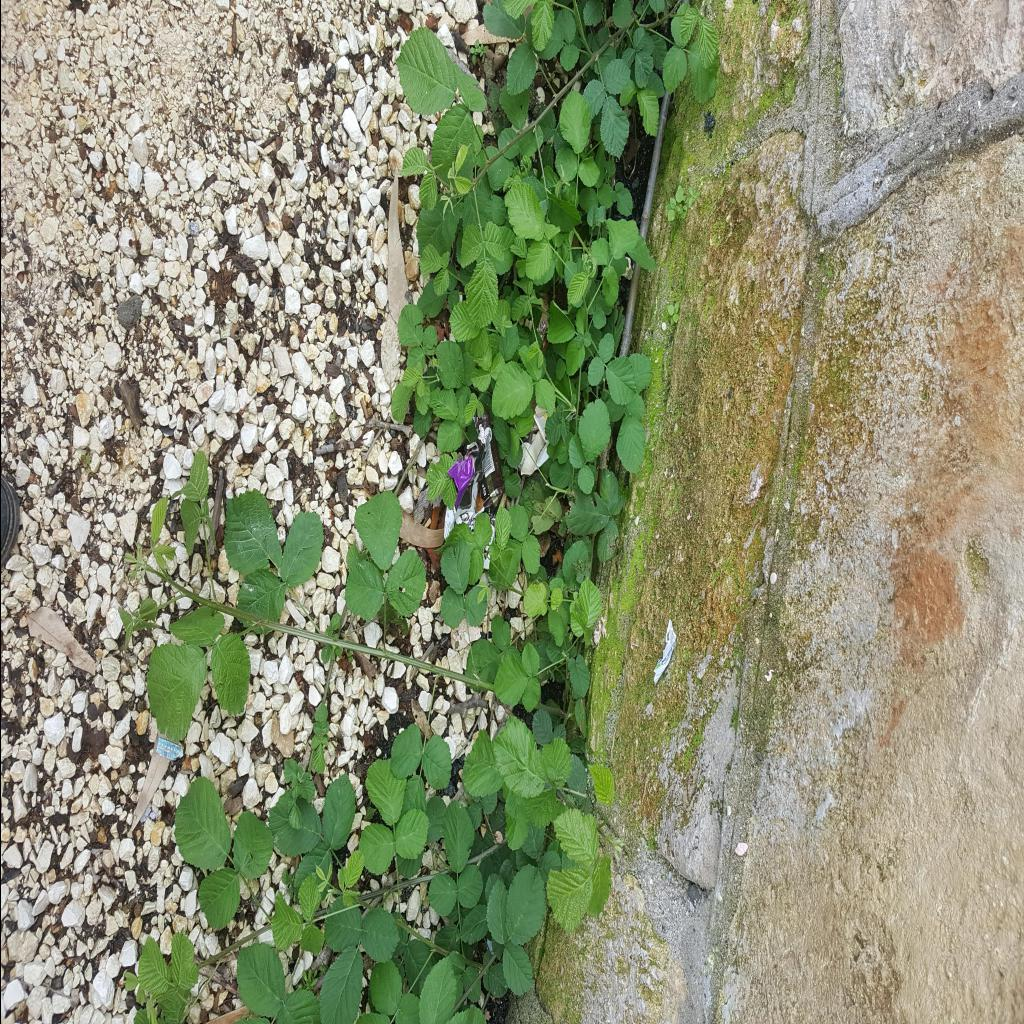Other plastic: (444, 410, 504, 570), (516, 410, 548, 478), (155, 736, 183, 760), (535, 320, 546, 348)
Unlabeled litter: (652, 620, 676, 684)
